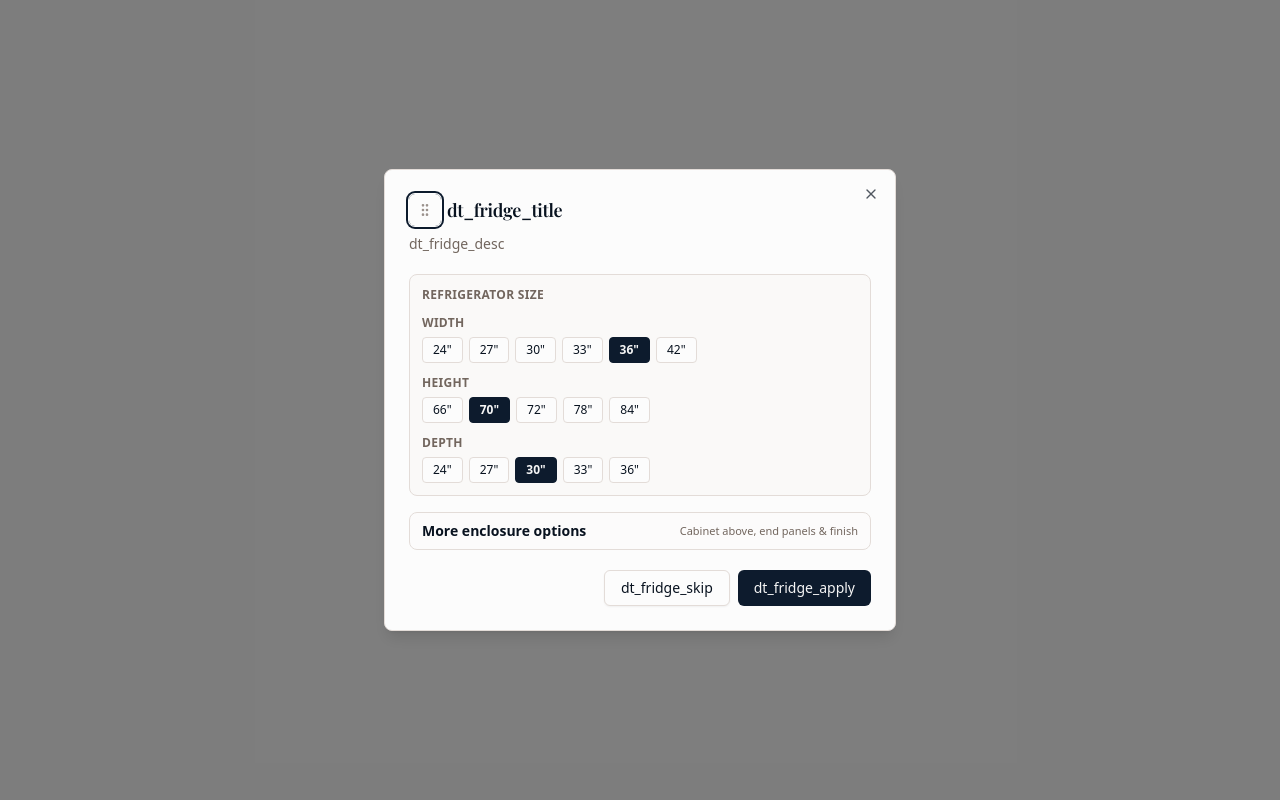
Test: RefrigeratorOptionsDialog end-panel defaults › labels the Madison S2496 shelf board clearly when used as a refrigerator panel
The image size is (1280, 800).
Step 1. Click the text "More enclosure options" → (504, 531), box [422,521,586,541]
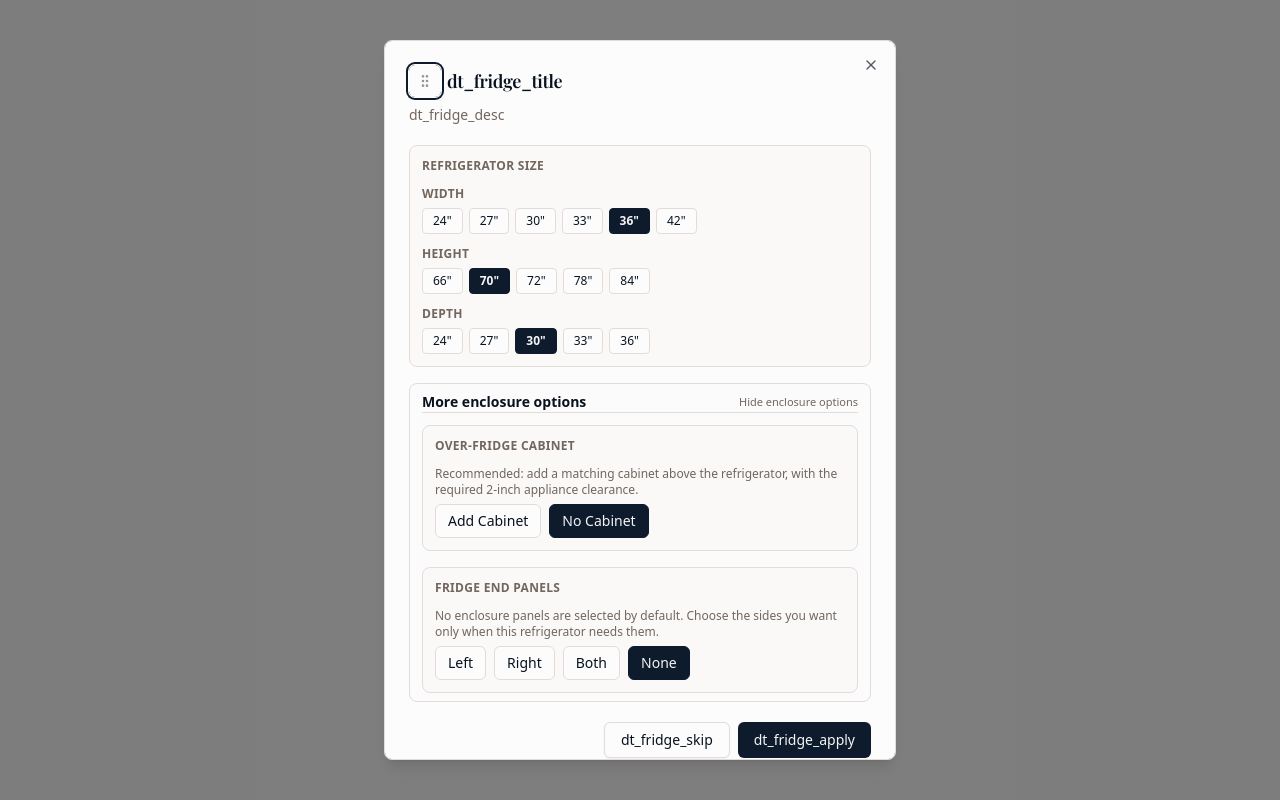
Step 2. Click the button "Both" → (591, 663), box [563,646,620,680]
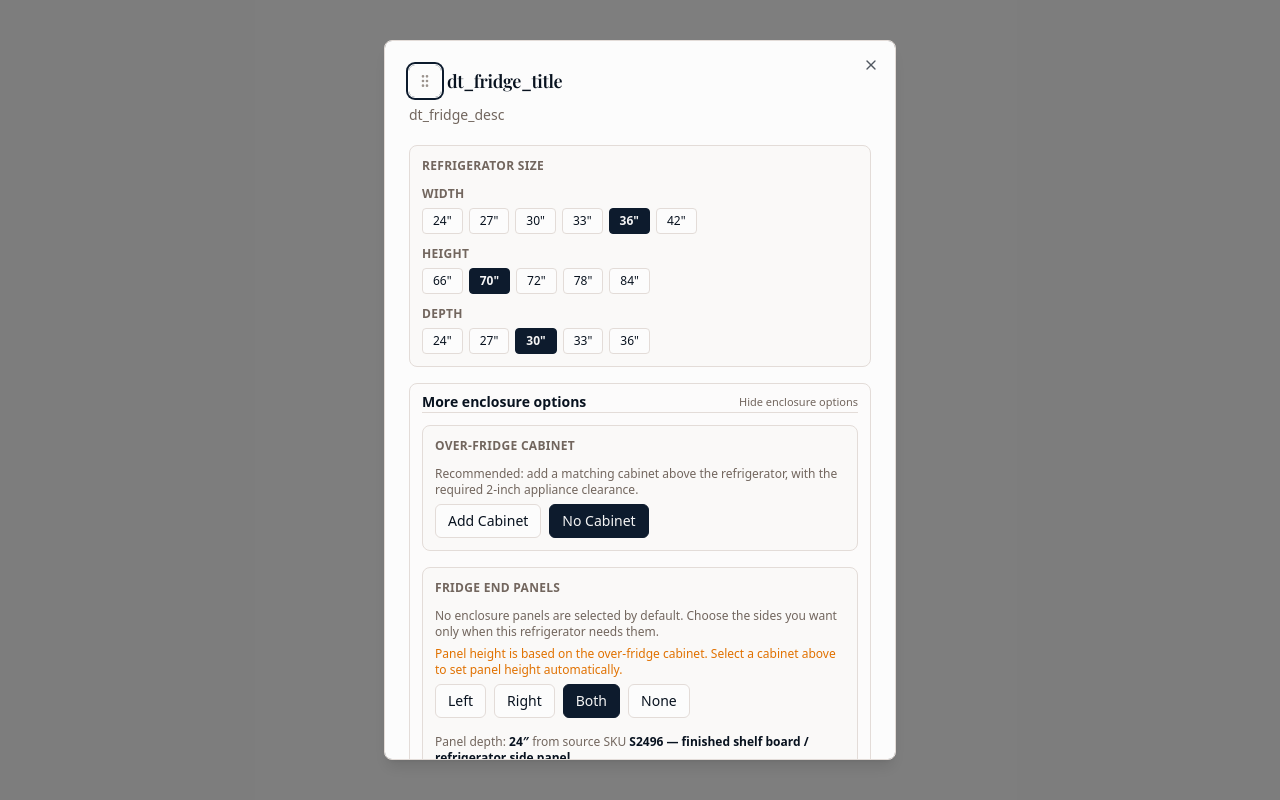
Now the text "S2496 — finished shelf board / refrigerator side panel" is shown 2 times
